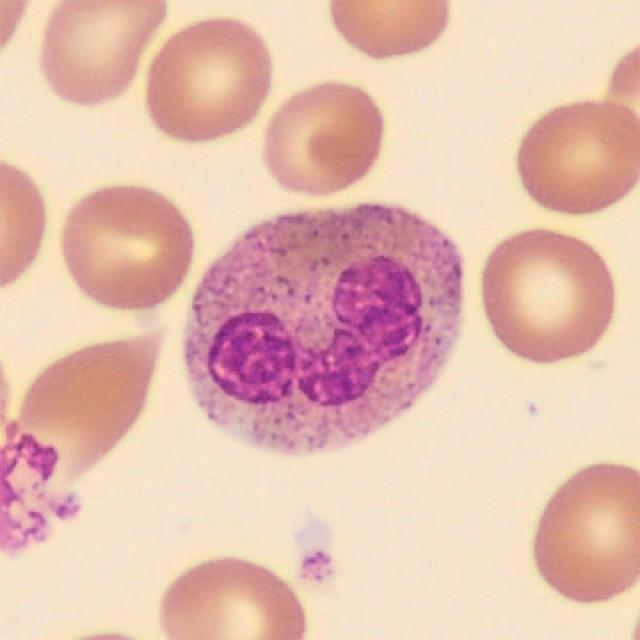Neutrofilo segmentado: (183, 206, 464, 459)
